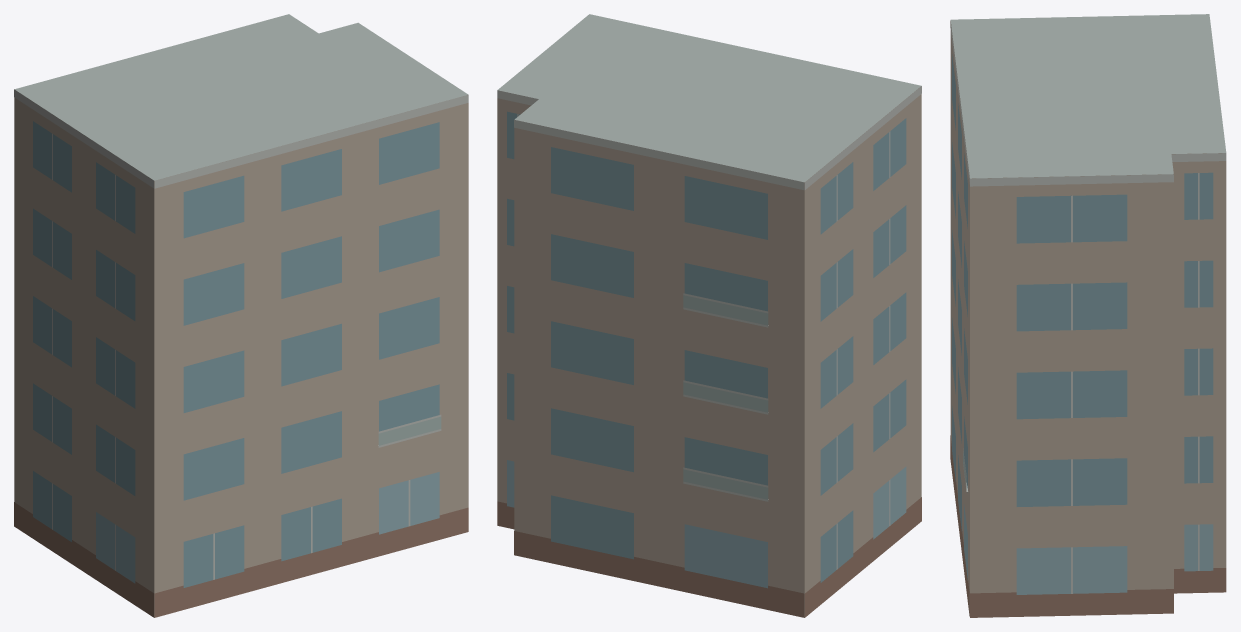
The model's file is survey-upis-32542652.glb.
3 renders of one model, left to right at view 1: azimuth 30°, elevation 25°; view 2: azimuth 150°, elevation 25°; view 3: azimuth 270°, elevation 25°, orthographic.
Parts seen in each view (by area): view 1: survey-upis-32542652.tmp; view 2: survey-upis-32542652.tmp; view 3: survey-upis-32542652.tmp.
Part boxes in pixels (box(x1,y1,x2,y2)): survey-upis-32542652.tmp: box(14, 14, 468, 617); survey-upis-32542652.tmp: box(497, 14, 921, 617); survey-upis-32542652.tmp: box(950, 14, 1226, 617).
Size of the model in its own units: 10.69 by 13.3 by 7.58.
